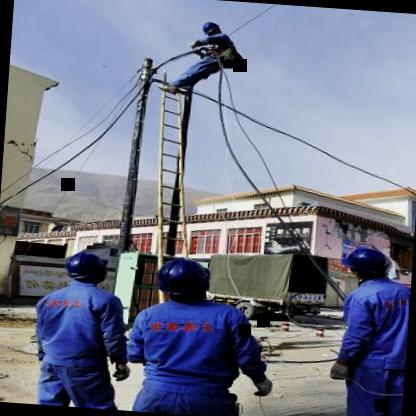helmet: (154, 252, 214, 304), (60, 243, 112, 286), (342, 242, 390, 282), (195, 16, 228, 42)
